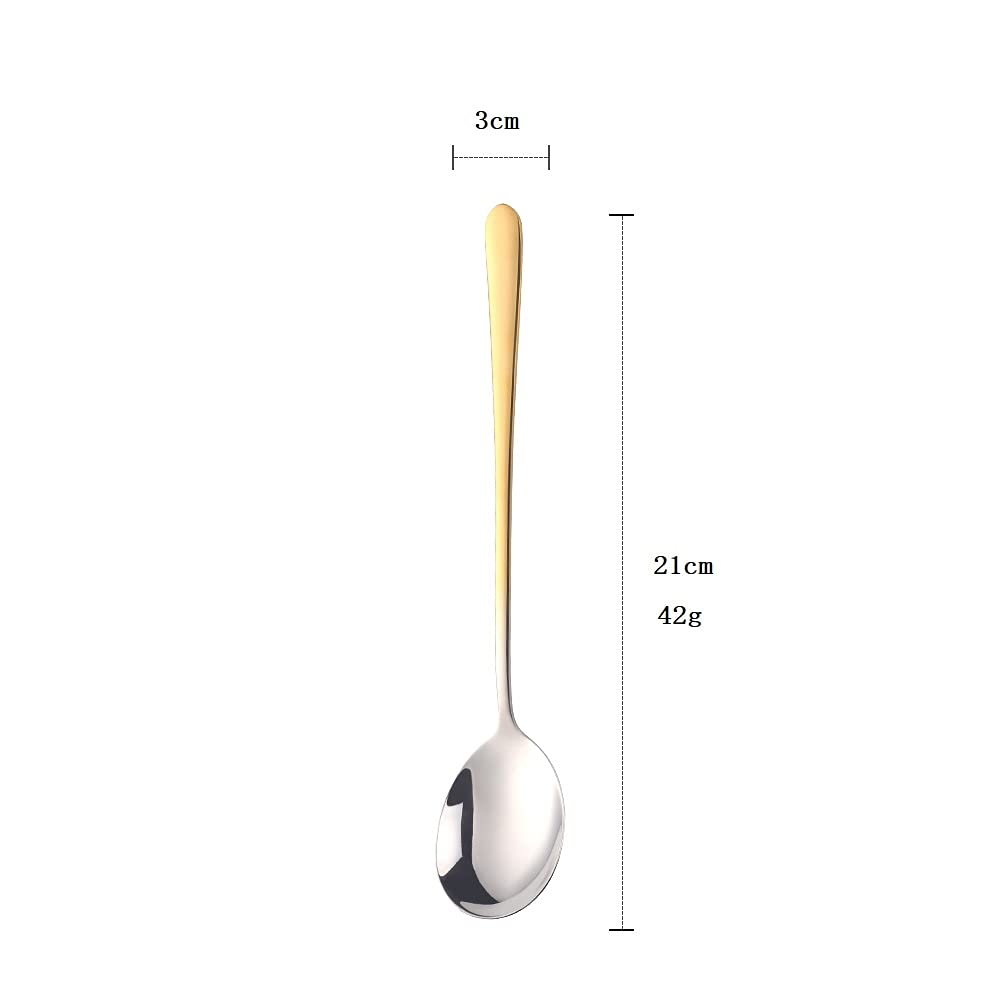21cm: (654, 556, 713, 574)
42g: (658, 606, 702, 627)
